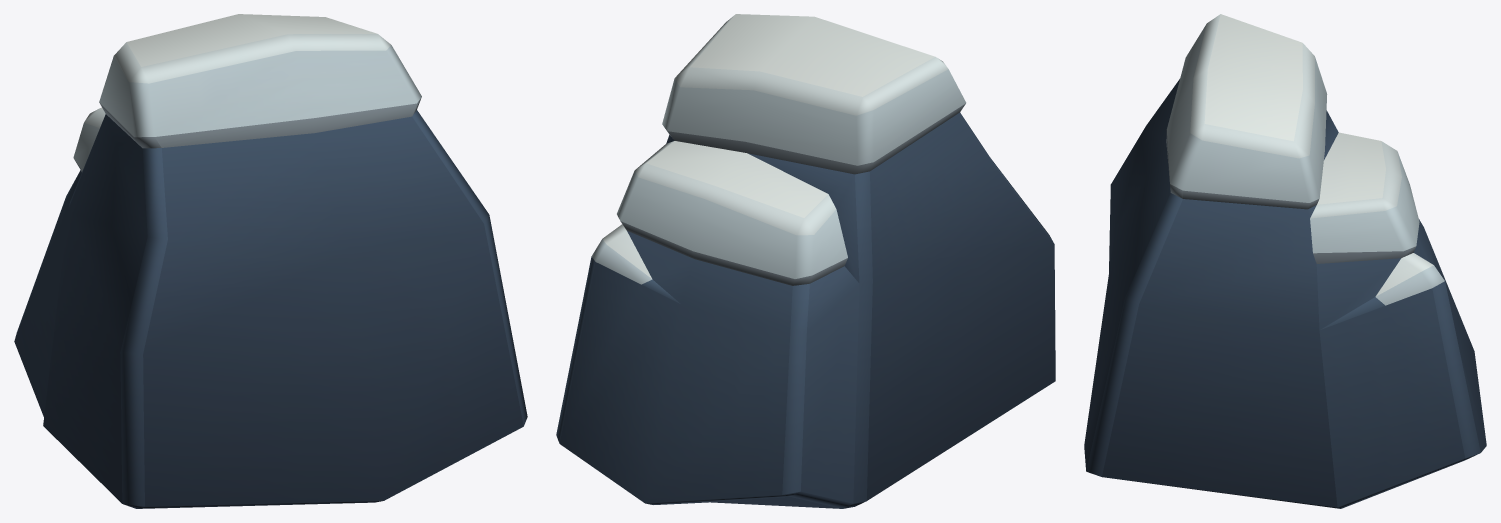
The model's file is rock_snow_019.fbx.
3 renders of one model, left to right at view 1: azimuth 30°, elevation 25°; view 2: azimuth 150°, elevation 25°; view 3: azimuth 270°, elevation 25°, orthographic. The views are drawn at different scales.
Visible parts, largest first — view 1: rock_snow_019; view 2: rock_snow_019; view 3: rock_snow_019.
Part boxes in pixels (<box>): rock_snow_019: <box>14,14,527,508</box>; rock_snow_019: <box>556,14,1055,508</box>; rock_snow_019: <box>1084,14,1486,508</box>.
Bounding box in the file's own units: 243 × 278 × 248.
1 material, 1 textured.
